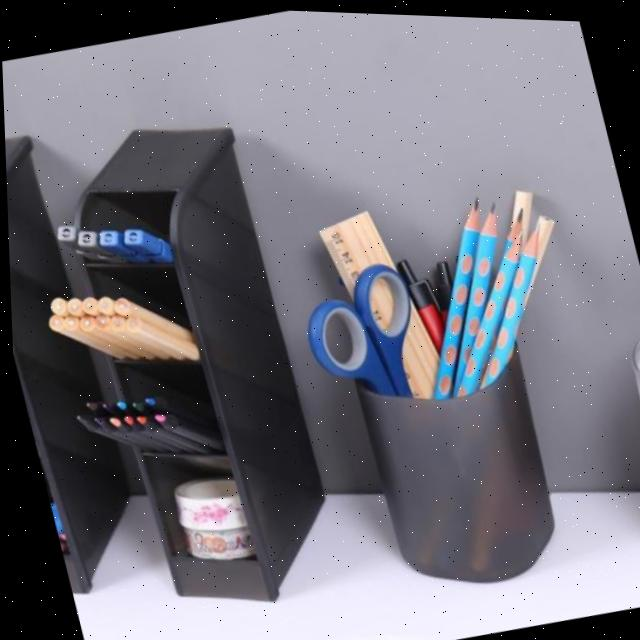pencil: (473, 215, 543, 390), (451, 221, 520, 397), (427, 184, 480, 401), (446, 190, 498, 399), (497, 198, 523, 257)
